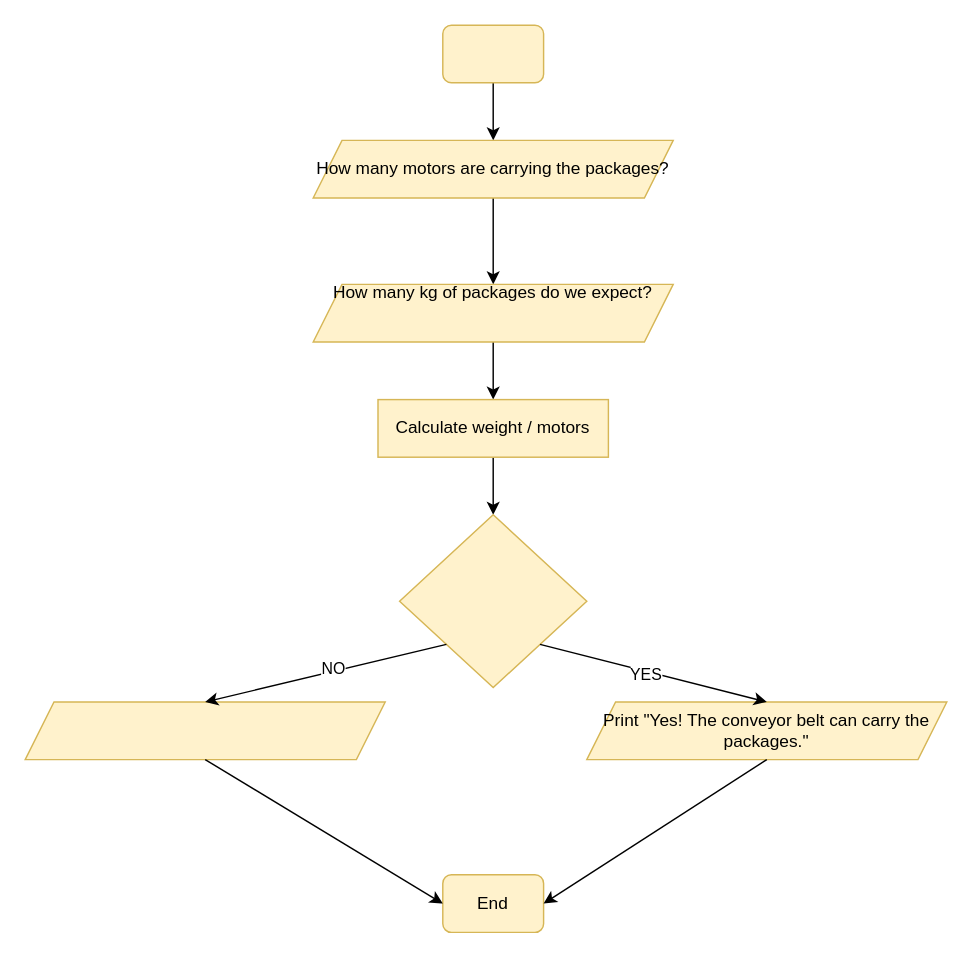
This 972x958 diagram has some shape labels left out. The shapes that lost their labels are listed below. From the top down, each one's centre as x and y in pixels, then its label:
the point at 492,53: Start
the point at 492,600: Is weight / motors <= 12?
the point at 204,730: Print "No. The conveyor belt cannot carry the packages."
